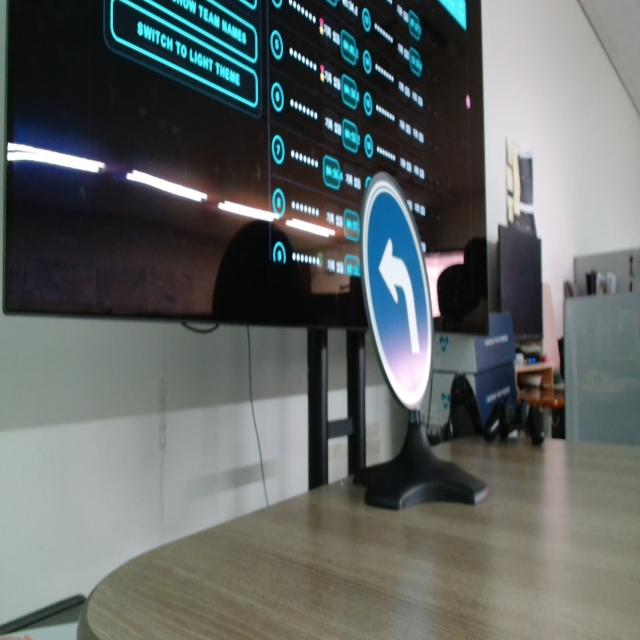left_direction: (350, 165, 444, 412)
